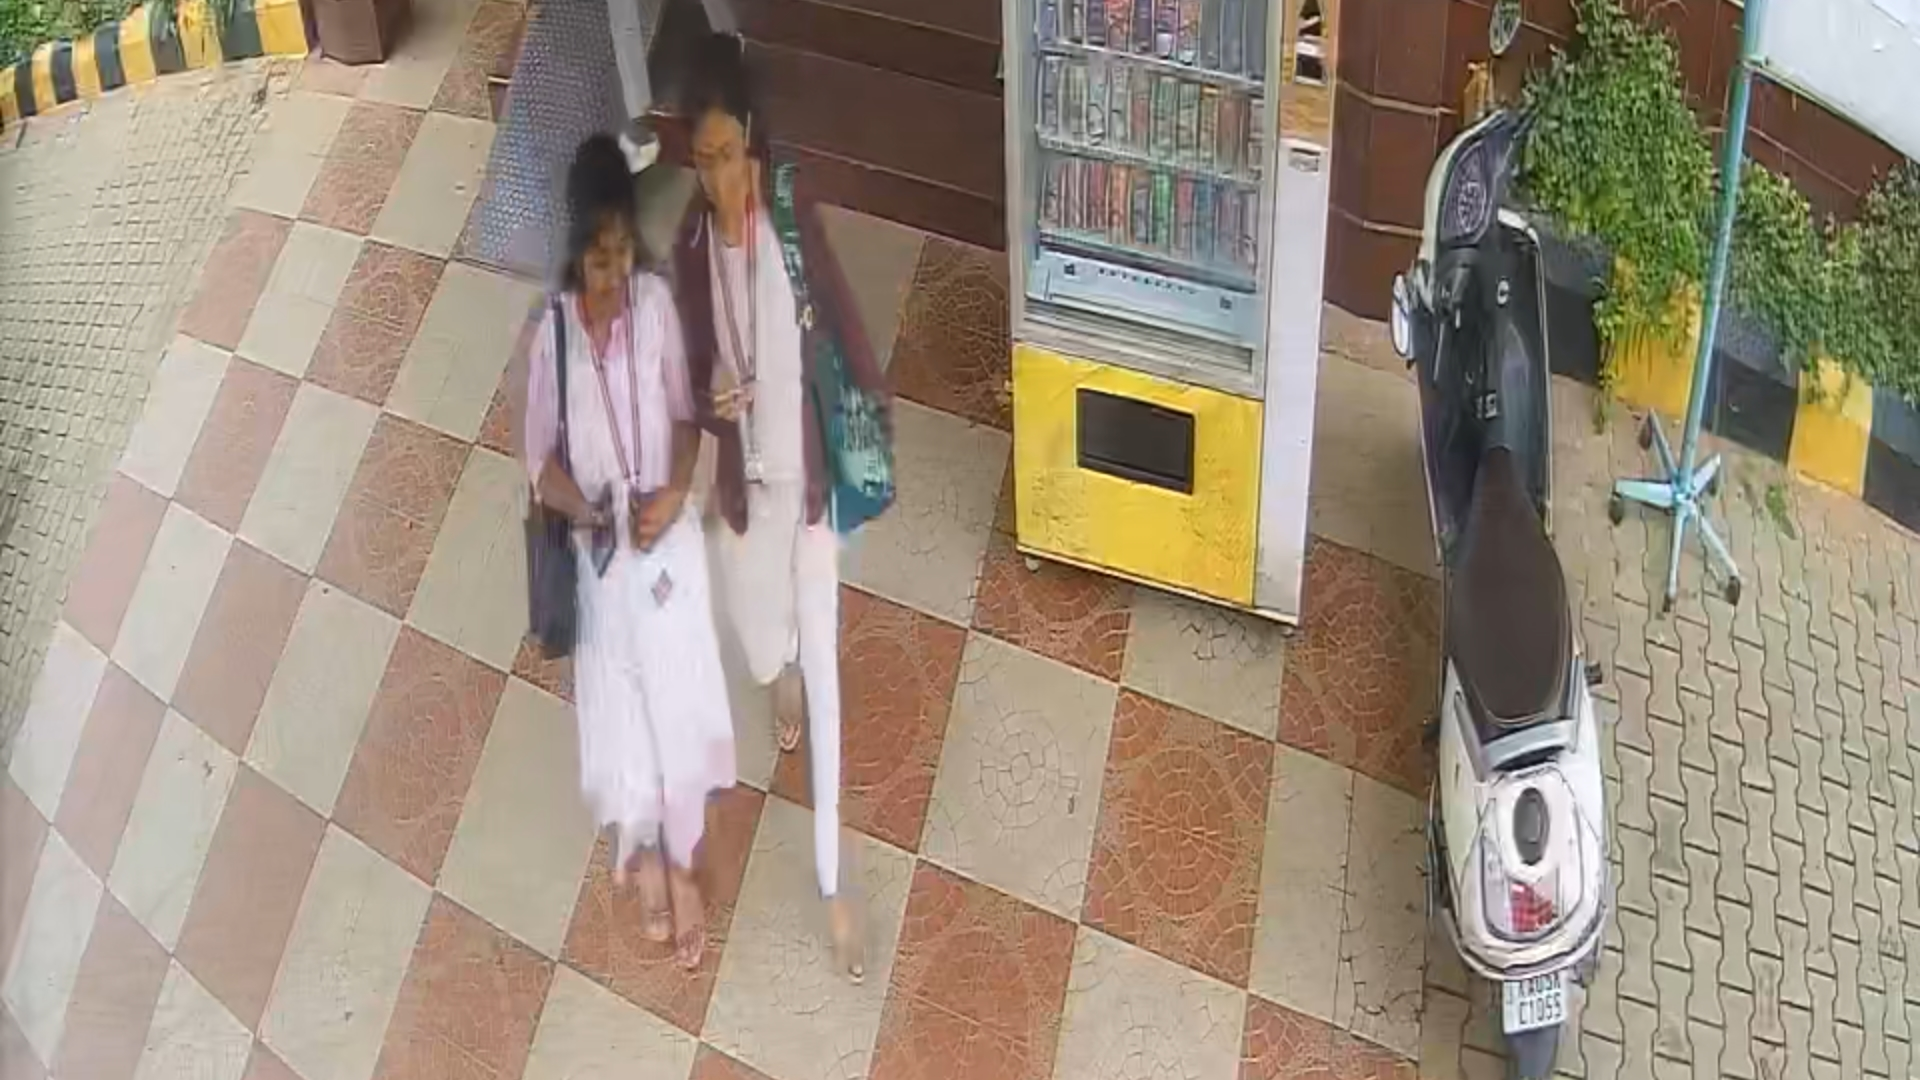not intruder: (505, 131, 731, 949), (674, 45, 862, 963)
